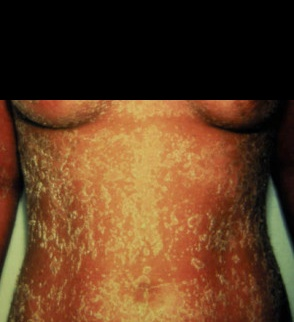SJS-TEN: (5, 105, 293, 322)
